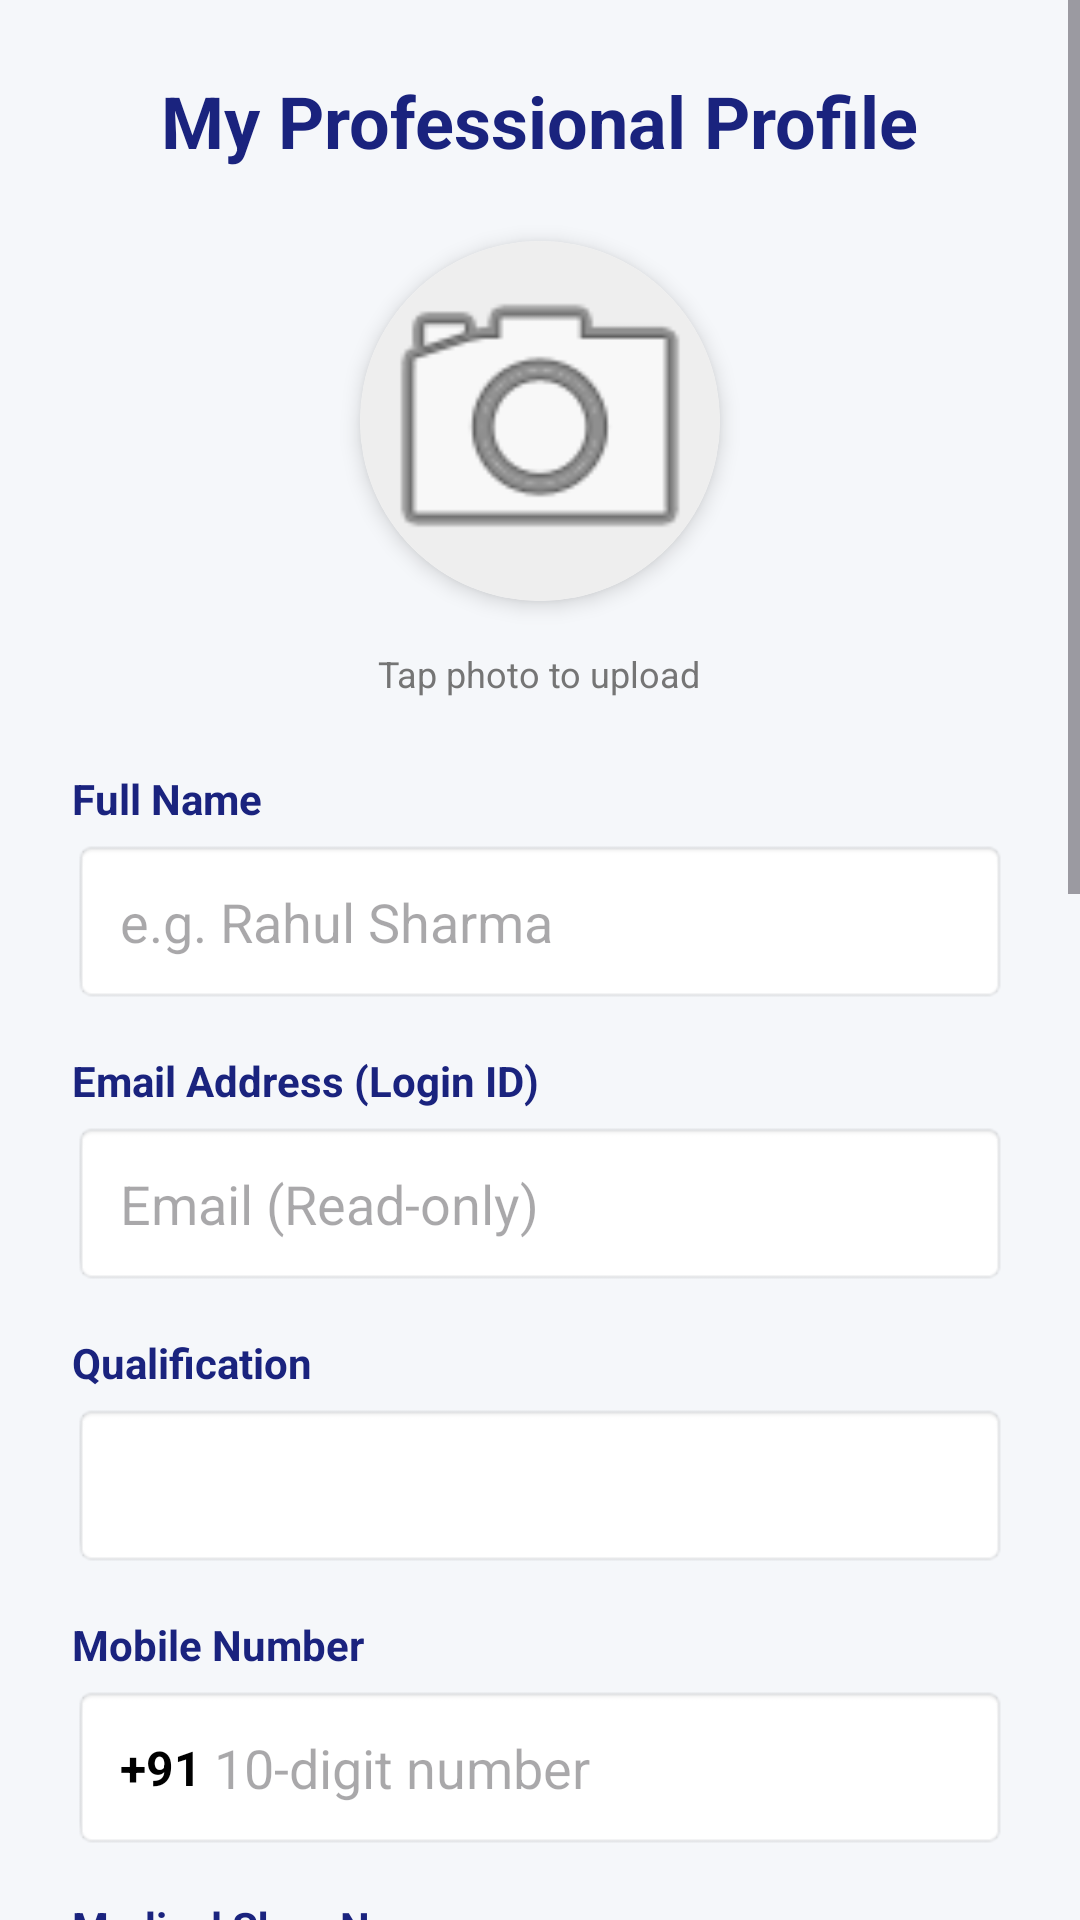

Icon bounding boxes for this 1080 x 1920 phone screenshot, format region(x1, y1, x2, y2):
camera: region(367, 304, 713, 601)
